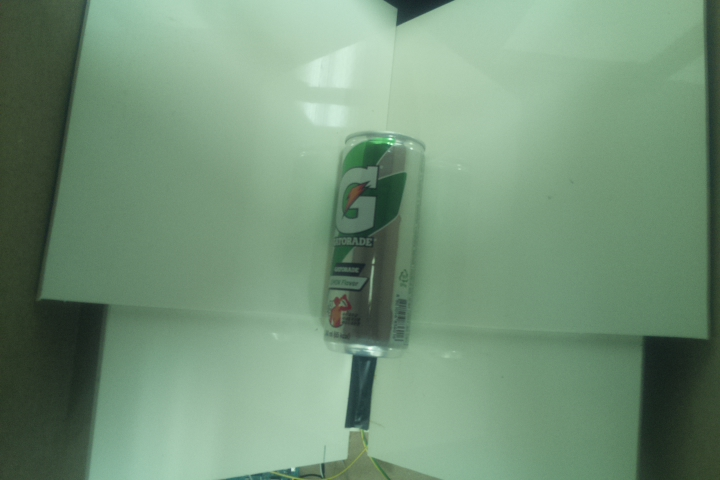can: (321, 125, 428, 363)
